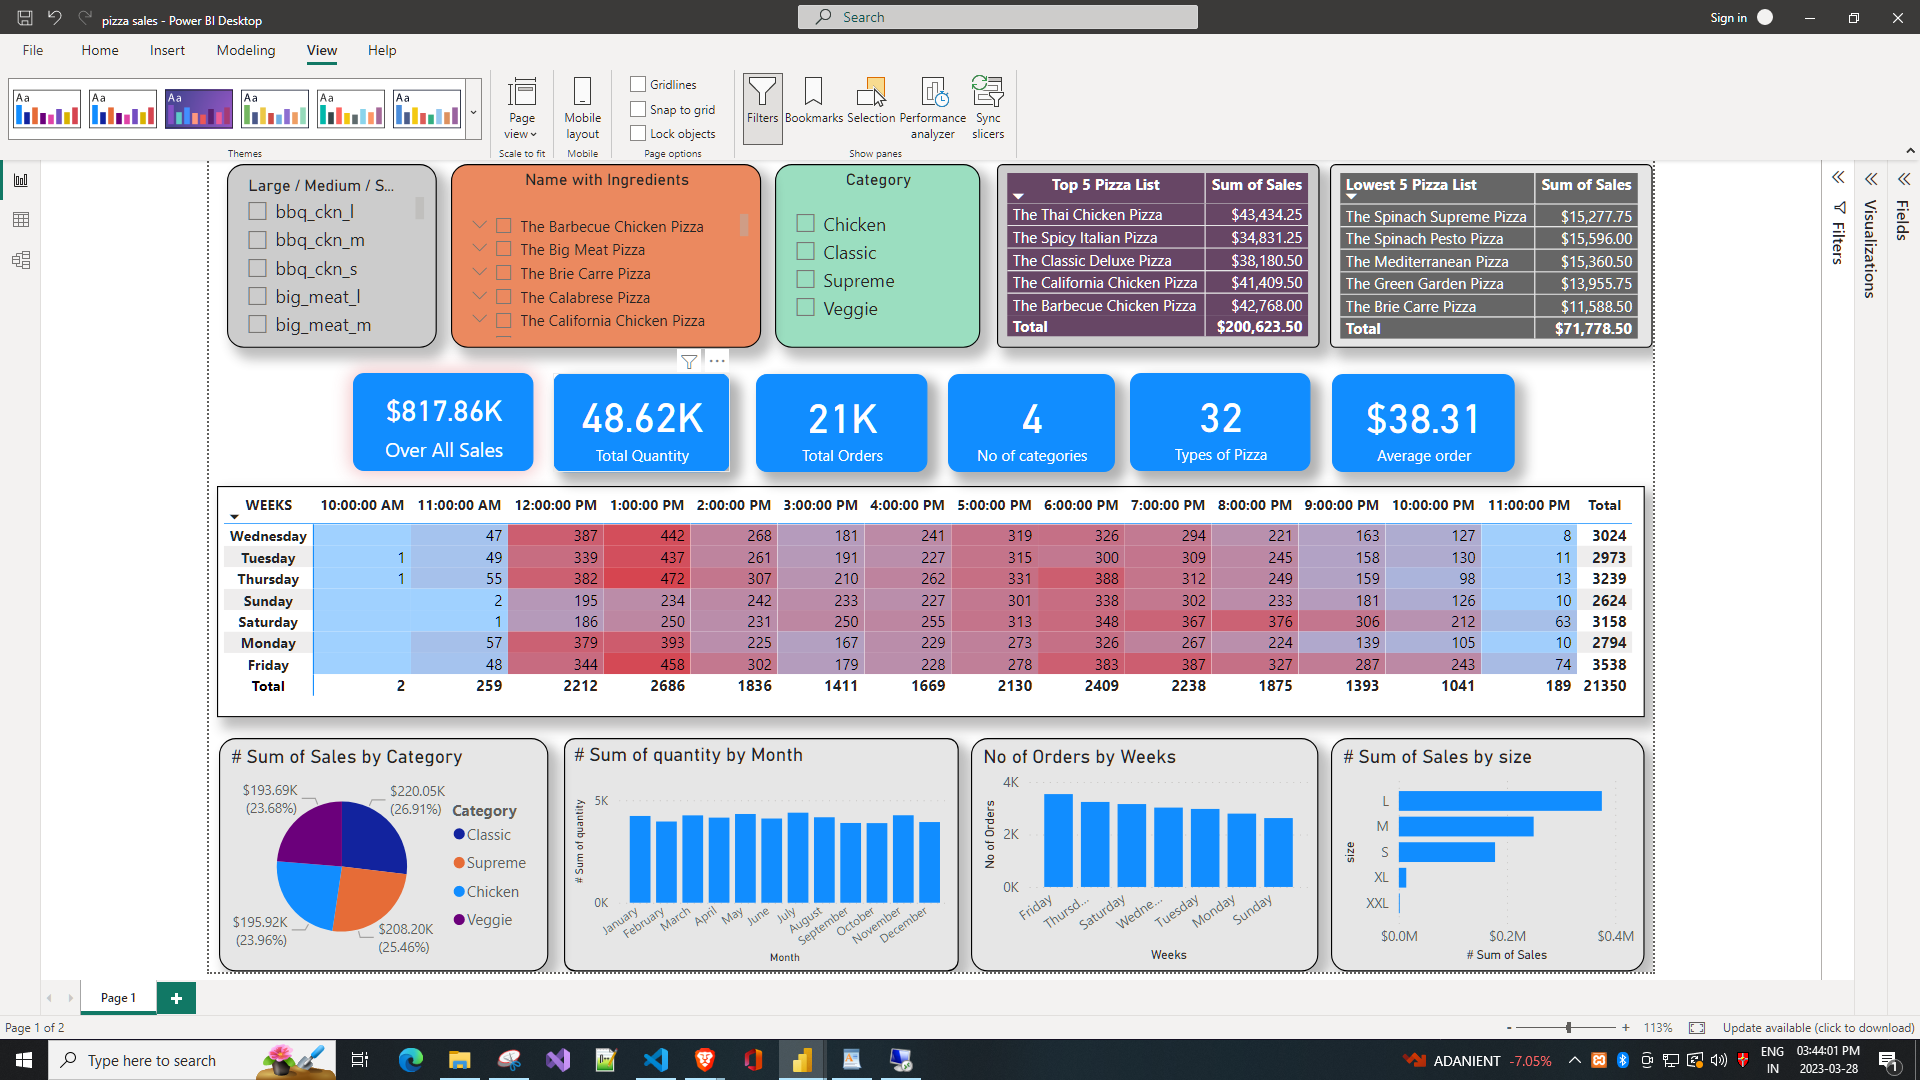

This screenshot's page, from the dashboard's own definition file:
{"tool":"powerbi","page":{"name":"Page 1","canvas":[1280,720],"ordinal":0},"visuals":[{"type":"slicer","title":"Pizza Sizes","fields":{"Values":["pizzas.pizza_id"]},"box":[15.6,3.9,222.7,163.4],"z":0},{"type":"clusteredColumnChart","fields":{"Category":["orders.date.Variation.Date Hierarchy.Month"],"Y":["Sum(order_details.quantity)"]},"box":[315.1,512.6,350.2,207.2],"z":1000},{"type":"slicer","title":"Category","fields":{"Values":["pizza_types.category"]},"box":[530.1,3.9,145.9,163.4],"z":2000},{"type":"slicer","title":"Name with Ingredients","fields":{"Values":["pizza_types.name","pizza_types.ingredients"]},"box":[245.1,3.9,275.3,163.4],"z":3000},{"type":"card","fields":{"Values":["Sum(order_details.Sales)"]},"box":[127.4,188.7,159.5,86.6],"z":4000},{"type":"pieChart","fields":{"Category":["pizza_types.category"],"Y":["Sum(order_details.Sales)"]},"box":[8.8,512.6,291.8,207.2],"z":5000},{"type":"lineStackedColumnComboChart","fields":{"Y":["order_details.no of orders"],"Category":["orders.No of weeks"]},"box":[676,512.6,308.3,207.2],"z":7000},{"type":"pivotTable","fields":{"Rows":["orders.weeks"],"Values":["CountNonNull(orders.order_id)"],"Columns":["orders.Custom"]},"box":[6.8,288.9,1266.4,205.2],"z":8000},{"type":"card","fields":{"Values":["order_details.no of orders"]},"box":[485.3,189.7,151.7,86.6],"z":9000},{"type":"card","fields":{"Values":["CountNonNull(order_details.quantity)"]},"box":[305.4,188.7,156.6,87.5],"z":10000},{"type":"card","fields":{"Values":["Count(pizza_types.category)"]},"box":[655.5,189.7,147.8,86.6],"z":11000},{"type":"card","fields":{"Values":["Count(pizza_types.pizza_type_id)"]},"box":[817,188.7,159.5,86.6],"z":12000},{"type":"card","fields":{"Values":["order_details.Average order"]},"box":[996,189.7,162.4,86.6],"z":13000},{"type":"barChart","fields":{"Y":["Sum(order_details.Sales)"],"Category":["pizzas.size"]},"box":[995,512.6,278.2,207.2],"z":14000},{"type":"tableEx","fields":{"Values":["pizza_types.name","Sum(order_details.Sales)"]},"box":[693.5,3.9,295.7,163.4],"z":15000},{"type":"tableEx","fields":{"Values":["pizza_types.name","Sum(order_details.Sales)"]},"box":[994,3.9,284,163.4],"z":16000}]}

Visuals, with their boxes on the page's 1280x720 design canvas (x1, y1, x2, y2). These are canvas units, not pixel positions in the 1920x1080 screenshot, which may show the page scaled, cropped or inside an application window:
"Pizza Sizes" slicer: box(16, 4, 238, 167)
clusteredColumnChart - orders.date.Variation.Date Hierarchy.Month x Sum(order_details.quantity): box(315, 513, 665, 720)
"Category" slicer: box(530, 4, 676, 167)
"Name with Ingredients" slicer: box(245, 4, 520, 167)
card - Sum(order_details.Sales): box(127, 189, 287, 275)
pieChart - pizza_types.category x Sum(order_details.Sales): box(9, 513, 301, 720)
lineStackedColumnComboChart - order_details.no of orders x orders.No of weeks: box(676, 513, 984, 720)
pivotTable - orders.weeks x CountNonNull(orders.order_id): box(7, 289, 1273, 494)
card - order_details.no of orders: box(485, 190, 637, 276)
card - CountNonNull(order_details.quantity): box(305, 189, 462, 276)
card - Count(pizza_types.category): box(656, 190, 803, 276)
card - Count(pizza_types.pizza_type_id): box(817, 189, 976, 275)
card - order_details.Average order: box(996, 190, 1158, 276)
barChart - Sum(order_details.Sales) x pizzas.size: box(995, 513, 1273, 720)
tableEx - pizza_types.name x Sum(order_details.Sales): box(694, 4, 989, 167)
tableEx - pizza_types.name x Sum(order_details.Sales): box(994, 4, 1278, 167)
